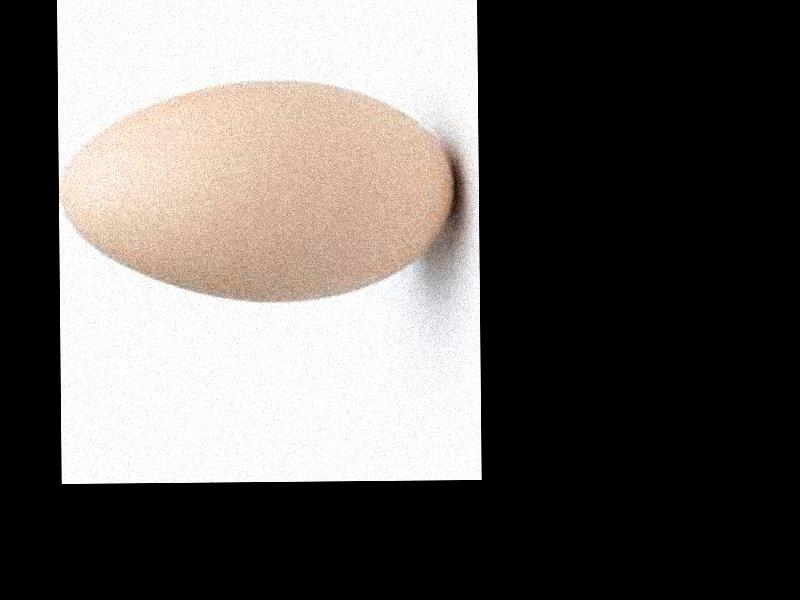Eggs: (60, 79, 460, 303)
